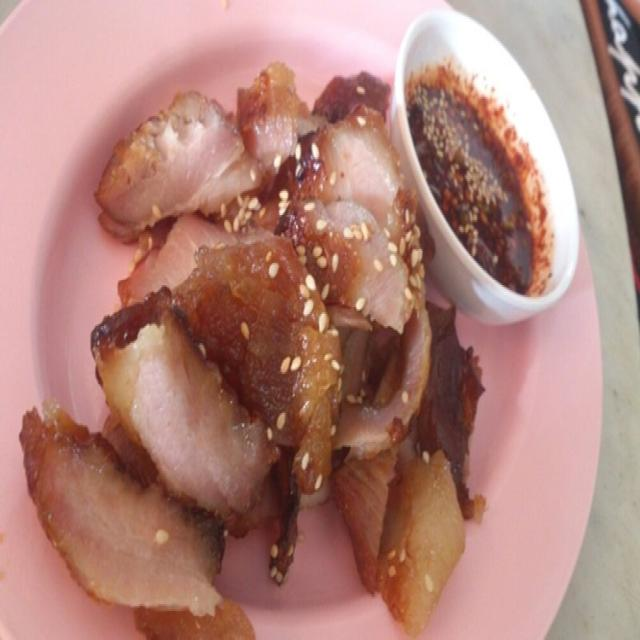猪肉菜式: (23, 29, 580, 614)
